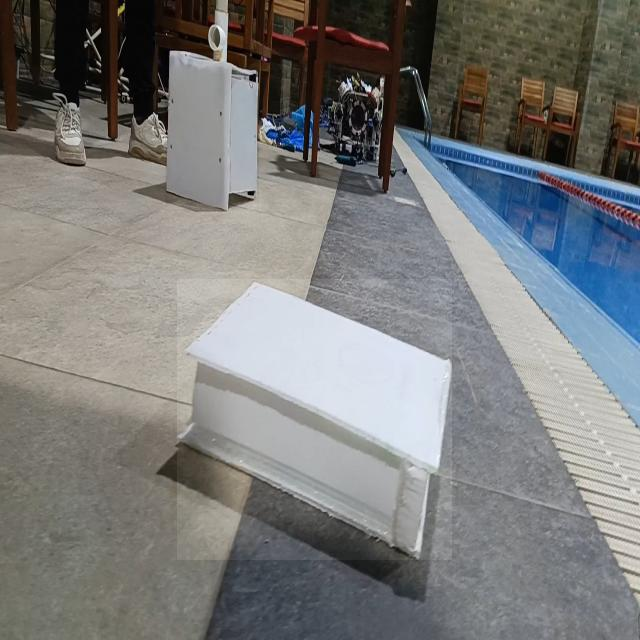Cube: (165, 49, 259, 211)
Cuboid: (177, 279, 452, 560)
